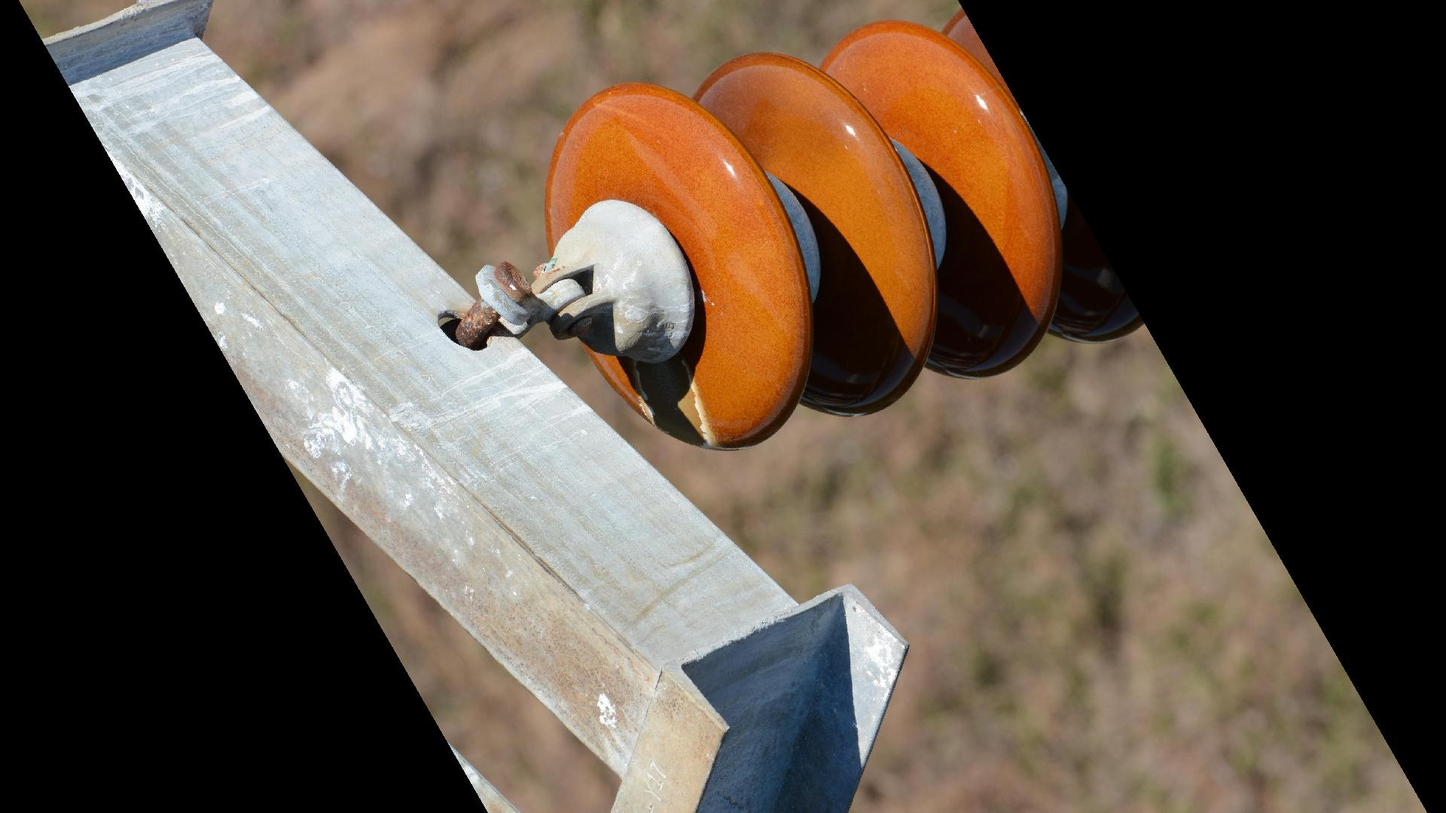insulator: (537, 1, 1146, 457)
insulator_flashover: (627, 349, 724, 453)
